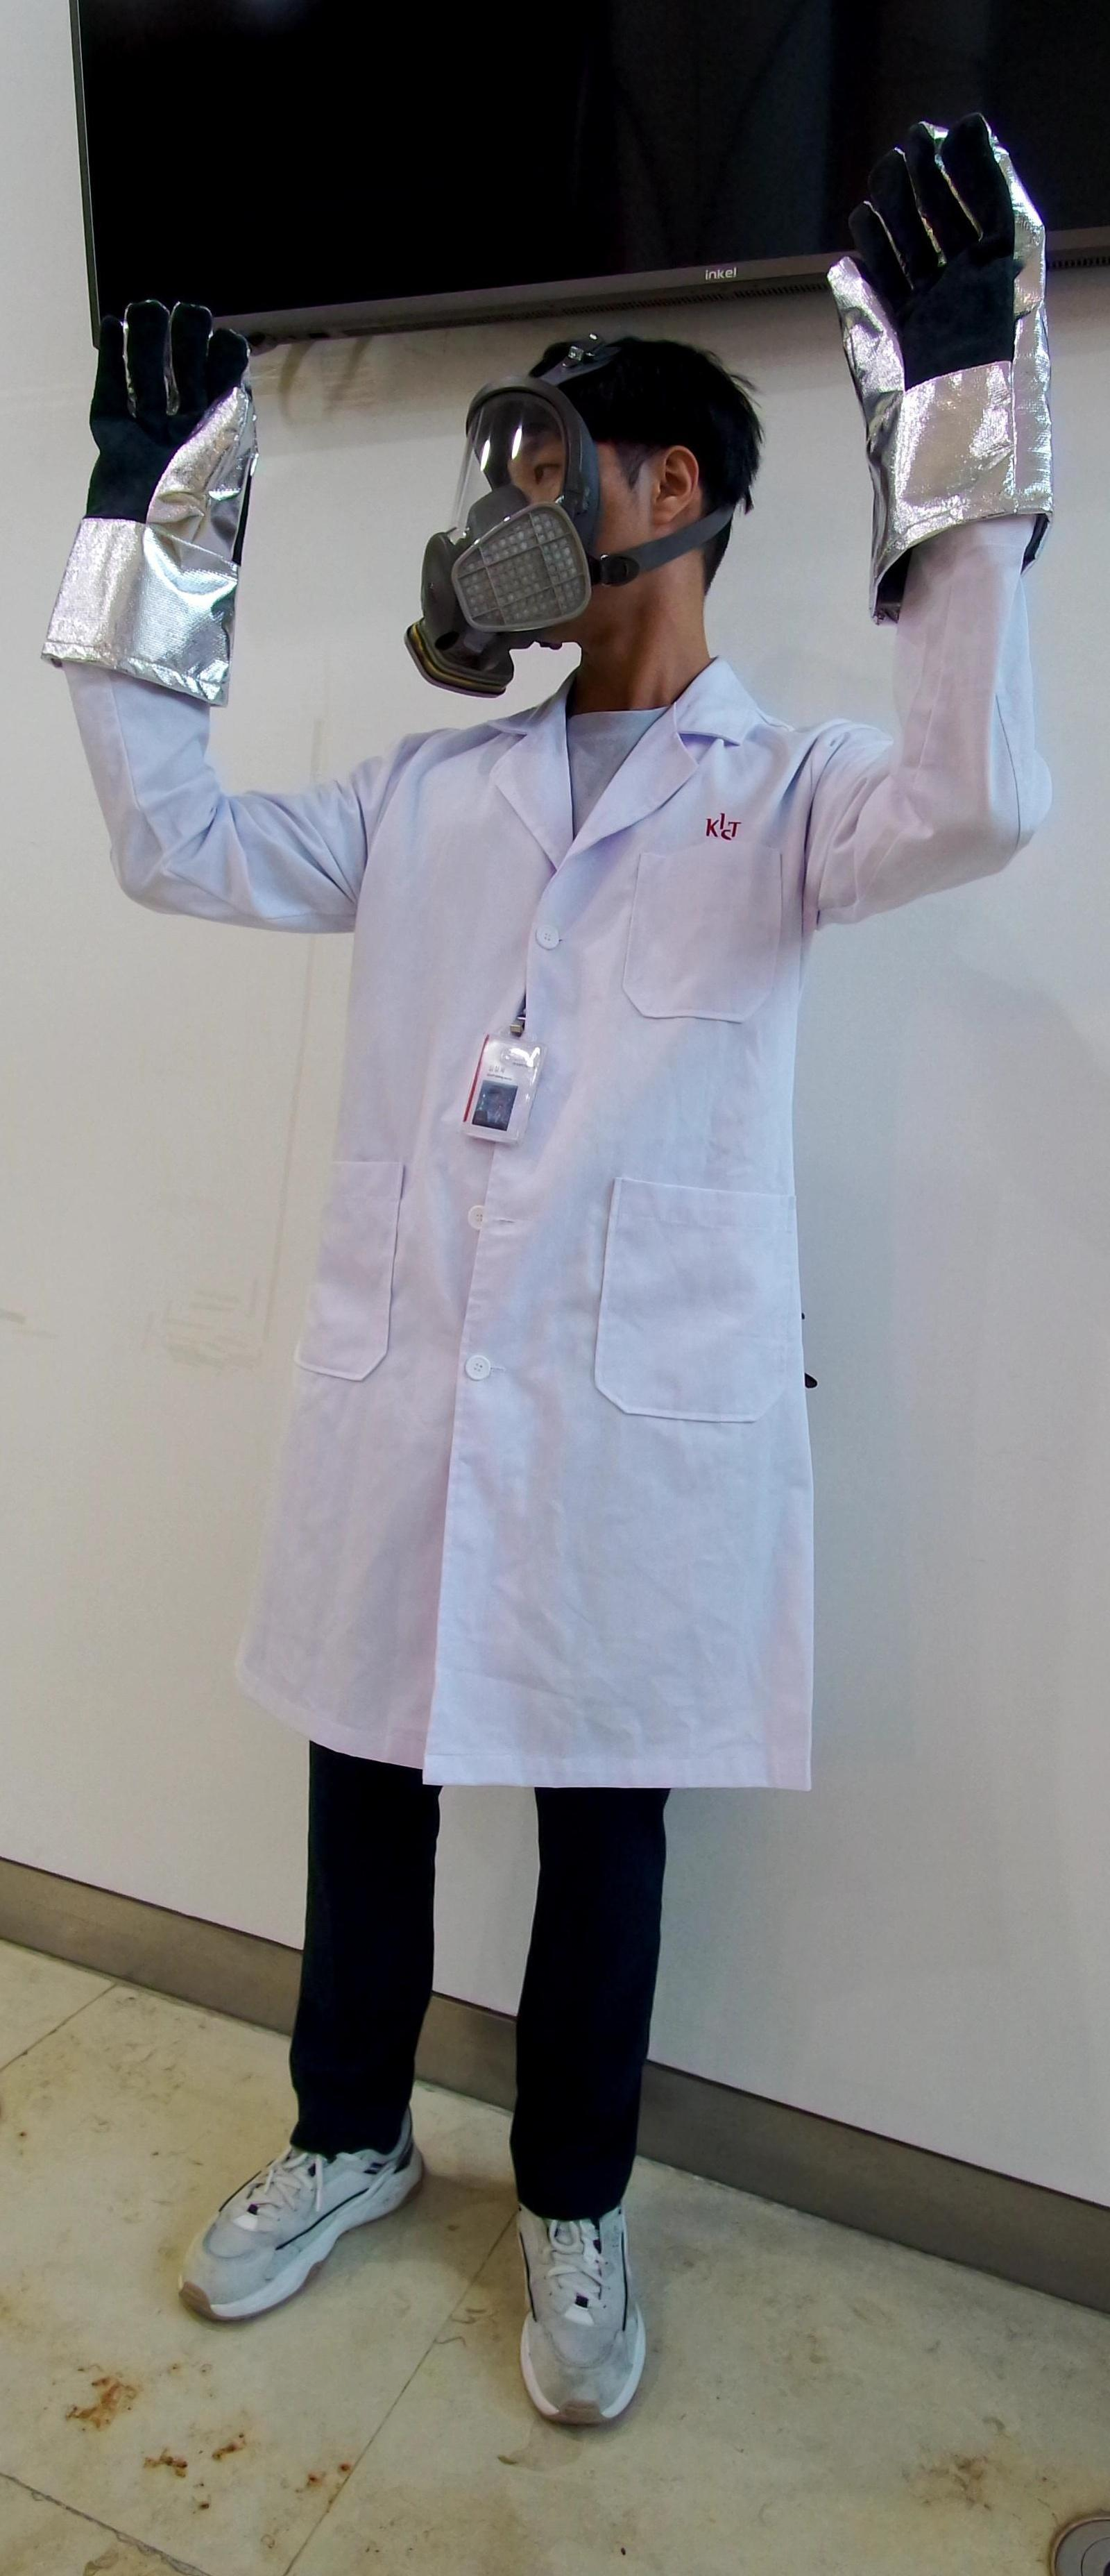lab_coat: (117, 675, 957, 1763)
